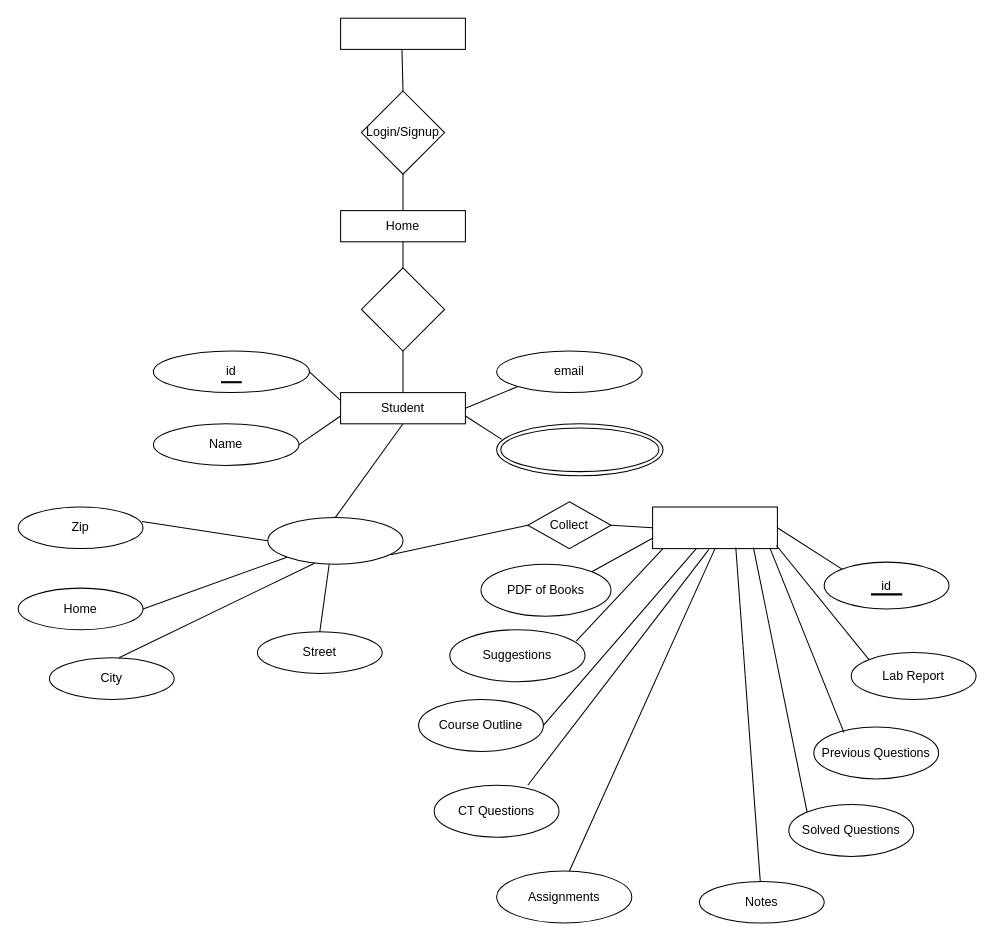
Image size: 994x941. Some labels were removed from this diagram. The centre of each missing label's shape, as x and y in pixels:
Address: (335,540)
Information: (714,527)
Mobile Number: (579,449)
Student Login: (402,309)
Websites: (402,33)
